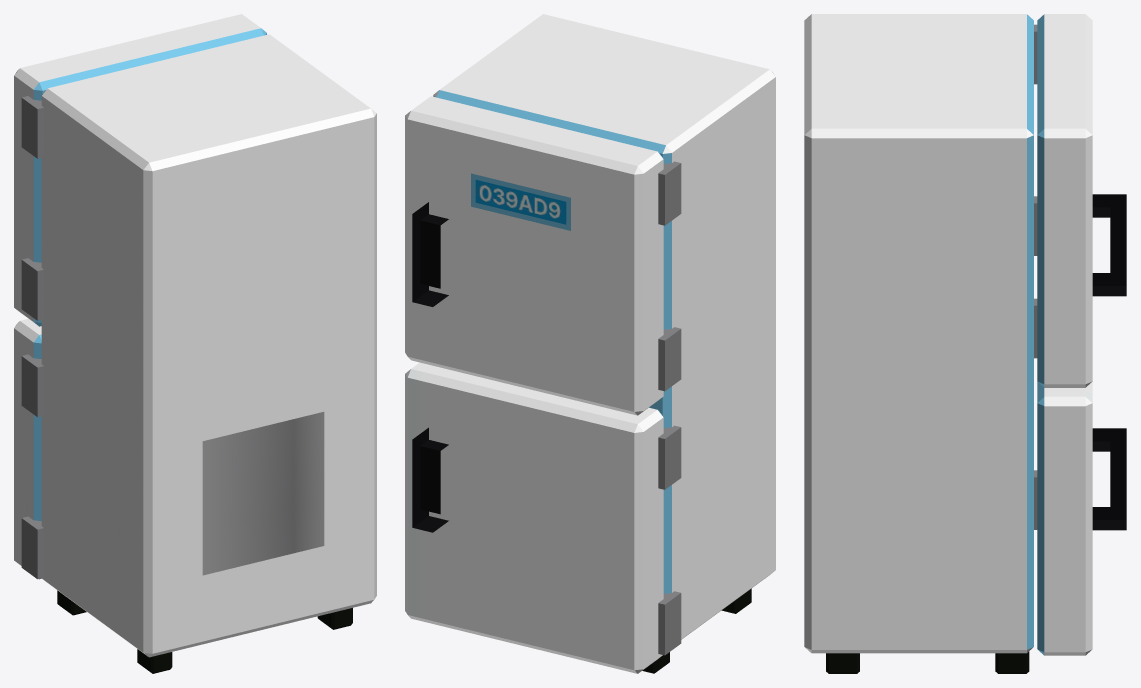
The model's file is Fridge.glb.
The picture shows the model from 3 angles, left to right: view 1: azimuth 30°, elevation 25°; view 2: azimuth 150°, elevation 25°; view 3: azimuth 270°, elevation 25°; orthographic projection. The views are drawn at different scales.
Parts seen in each view (by area): view 1: fridge; view 2: fridge; view 3: fridge.
Part boxes in pixels (x1,y1,x2,y2): fridge: (14,14,376,673); fridge: (405,14,775,673); fridge: (804,14,1126,673).
Size of the model in its own units: 5.98 by 12.39 by 6.56.
1 material, 1 textured.
